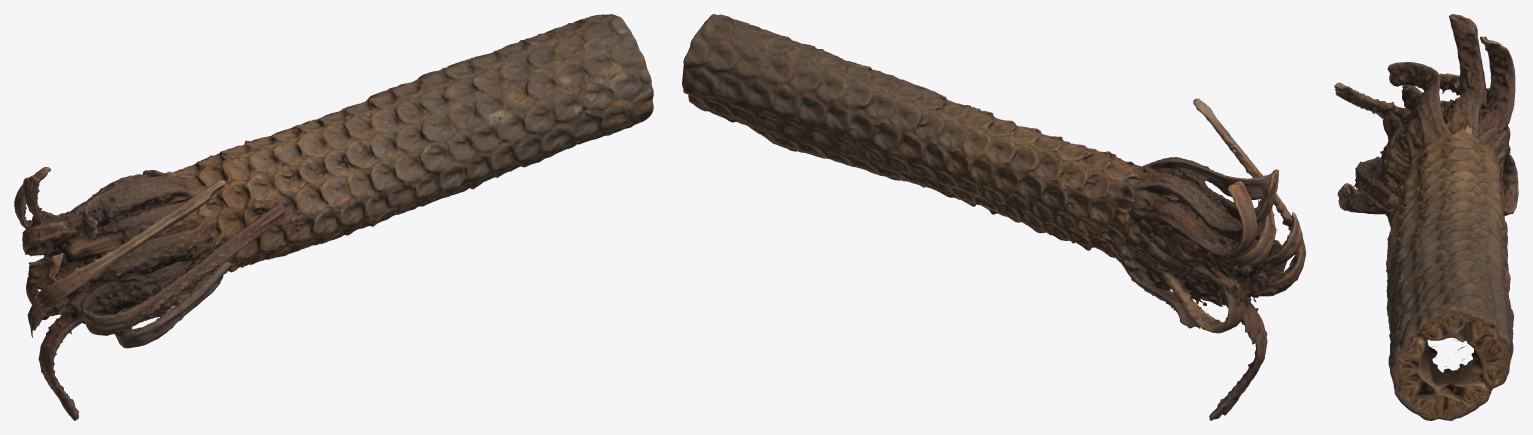
File: Fern_Cyathea_furfuracea.glb
3 renders of one model, left to right at view 1: azimuth 30°, elevation 25°; view 2: azimuth 150°, elevation 25°; view 3: azimuth 270°, elevation 25°, orthographic. The views are drawn at different scales.
Parts seen in each view (by area): view 1: Cyathea_furfuracea_Baker-unwrapped-webmulti; view 2: Cyathea_furfuracea_Baker-unwrapped-webmulti; view 3: Cyathea_furfuracea_Baker-unwrapped-webmulti.
Boxes of the visible parts, x1,y1,x2,y2 form: Cyathea_furfuracea_Baker-unwrapped-webmulti: (14, 14, 653, 420); Cyathea_furfuracea_Baker-unwrapped-webmulti: (682, 14, 1305, 420); Cyathea_furfuracea_Baker-unwrapped-webmulti: (1334, 14, 1518, 420).
Size of the model in its own units: 0.4058 by 0.1801 by 0.0973.
Materials: 1 (1 with a texture image).
